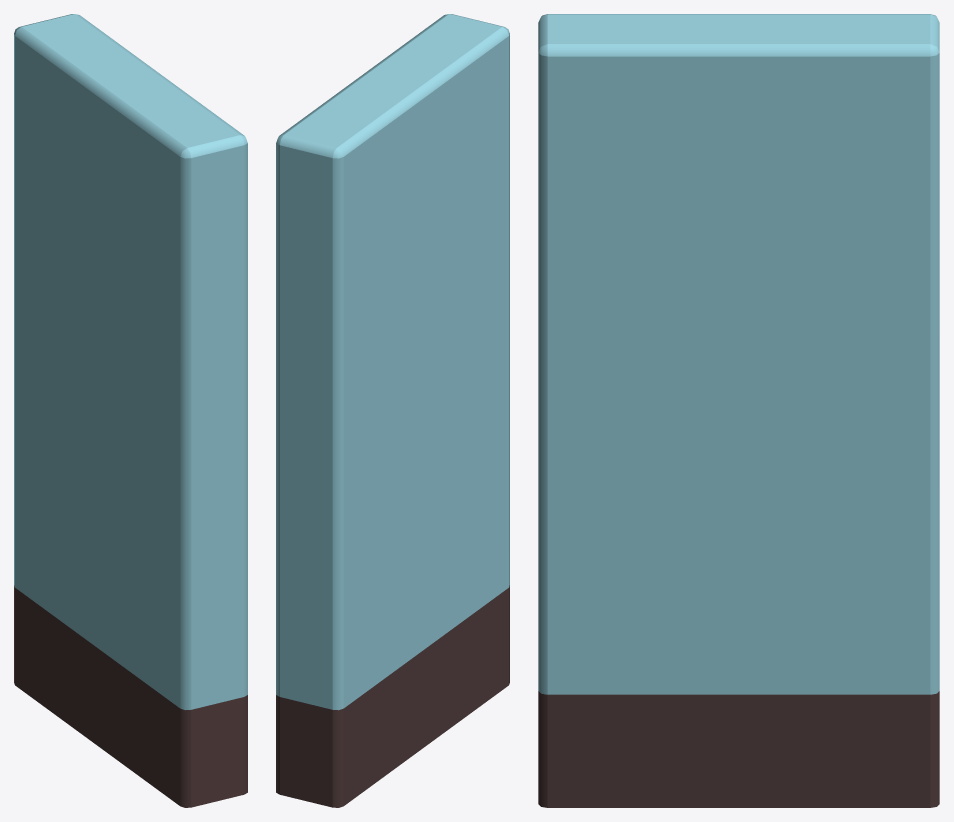
The model's file is DividerOuterPieceGLASSBlockout_RB.fbx.
The picture shows the model from 3 angles, left to right: view 1: azimuth 30°, elevation 25°; view 2: azimuth 150°, elevation 25°; view 3: azimuth 270°, elevation 25°; orthographic projection. The views are drawn at different scales.
Parts seen in each view (by area): view 1: DividerOuterPieceGLASSBlockout_RB, DividerOuterPieceWOOD; view 2: DividerOuterPieceGLASSBlockout_RB, DividerOuterPieceWOOD; view 3: DividerOuterPieceGLASSBlockout_RB, DividerOuterPieceWOOD.
Boxes of the visible parts, bbox=[...] form: DividerOuterPieceGLASSBlockout_RB: bbox=[14, 14, 247, 710]; DividerOuterPieceWOOD: bbox=[14, 585, 247, 807]; DividerOuterPieceGLASSBlockout_RB: bbox=[276, 14, 509, 710]; DividerOuterPieceWOOD: bbox=[276, 585, 509, 807]; DividerOuterPieceGLASSBlockout_RB: bbox=[538, 14, 939, 694]; DividerOuterPieceWOOD: bbox=[538, 691, 939, 807].
Size of the model in its own units: 40 by 376 by 180.
